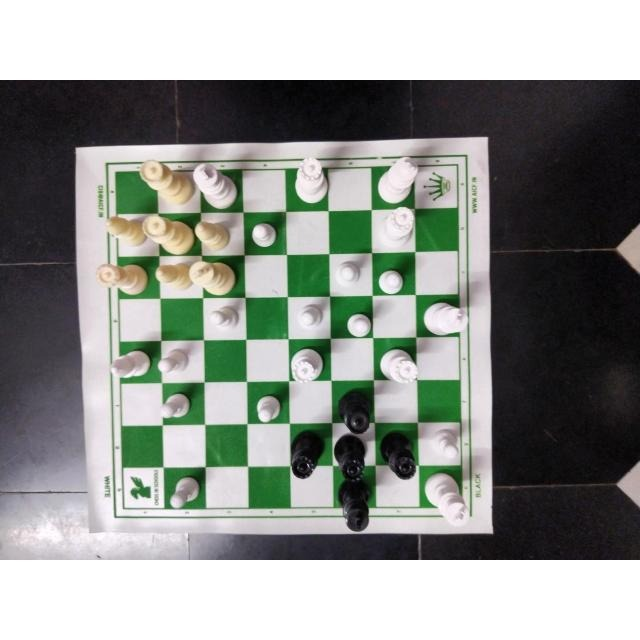black-king: (334, 483, 373, 531)
black-queen: (380, 433, 418, 480), (289, 430, 322, 479), (336, 395, 376, 432), (334, 438, 369, 480)
white-bishop: (103, 215, 146, 246), (194, 220, 234, 250), (109, 350, 150, 378), (155, 263, 193, 291)
white-king: (423, 472, 471, 527), (192, 161, 238, 210), (377, 155, 419, 205), (188, 260, 236, 296), (424, 302, 468, 338)
white-pawn: (429, 429, 459, 461), (157, 392, 191, 420), (172, 476, 200, 509), (208, 304, 240, 332), (157, 347, 187, 375), (376, 269, 408, 295), (251, 220, 279, 248), (253, 395, 281, 421), (297, 303, 323, 331), (335, 261, 363, 286), (347, 313, 372, 339)
white-queen: (138, 158, 194, 206), (140, 213, 195, 254), (92, 263, 148, 295), (378, 205, 418, 249), (294, 157, 330, 205), (378, 347, 420, 383), (289, 347, 325, 383)
